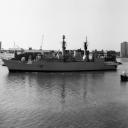Fragata: (2, 31, 120, 76)
